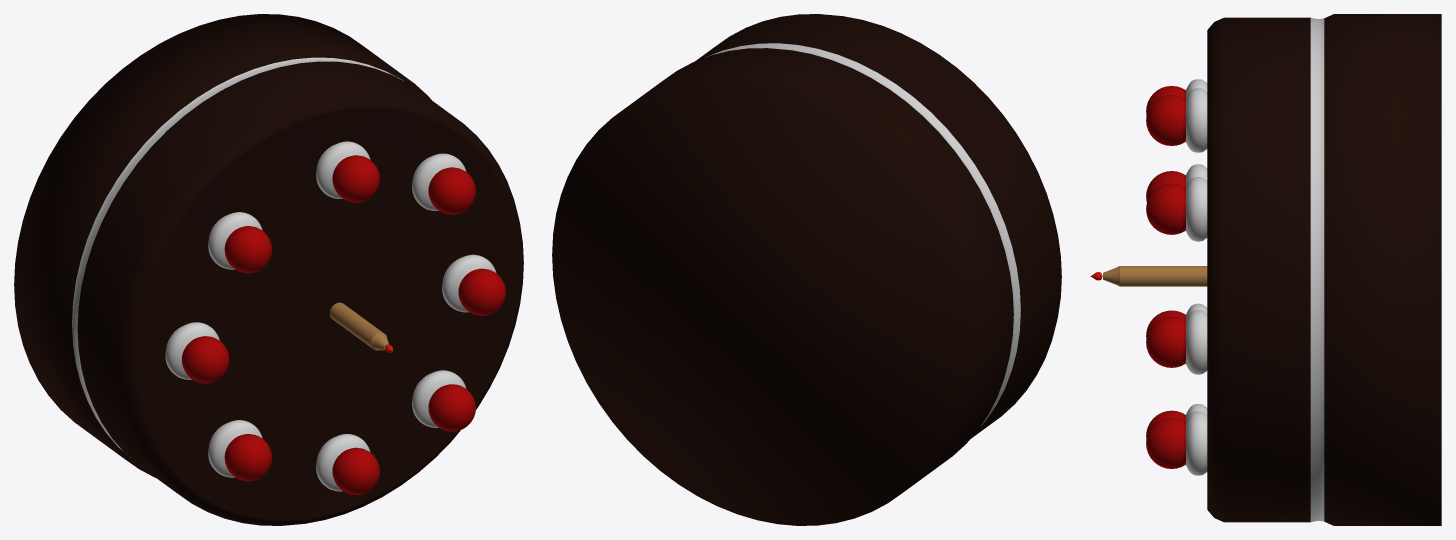
The model's file is UglyCake.obj.
The picture shows the model from 3 angles, left to right: view 1: azimuth 30°, elevation 25°; view 2: azimuth 150°, elevation 25°; view 3: azimuth 270°, elevation 25°; orthographic projection. The views are drawn at different scales.
Visible parts, largest first — view 1: Circle; view 2: Circle; view 3: Circle.
Part boxes in pixels (x1,y1,x2,y2): Circle: (14, 14, 523, 525); Circle: (552, 14, 1061, 525); Circle: (1090, 14, 1441, 525).
Bounding box in the file's own units: 1.5 × 1.5 × 1.03.
